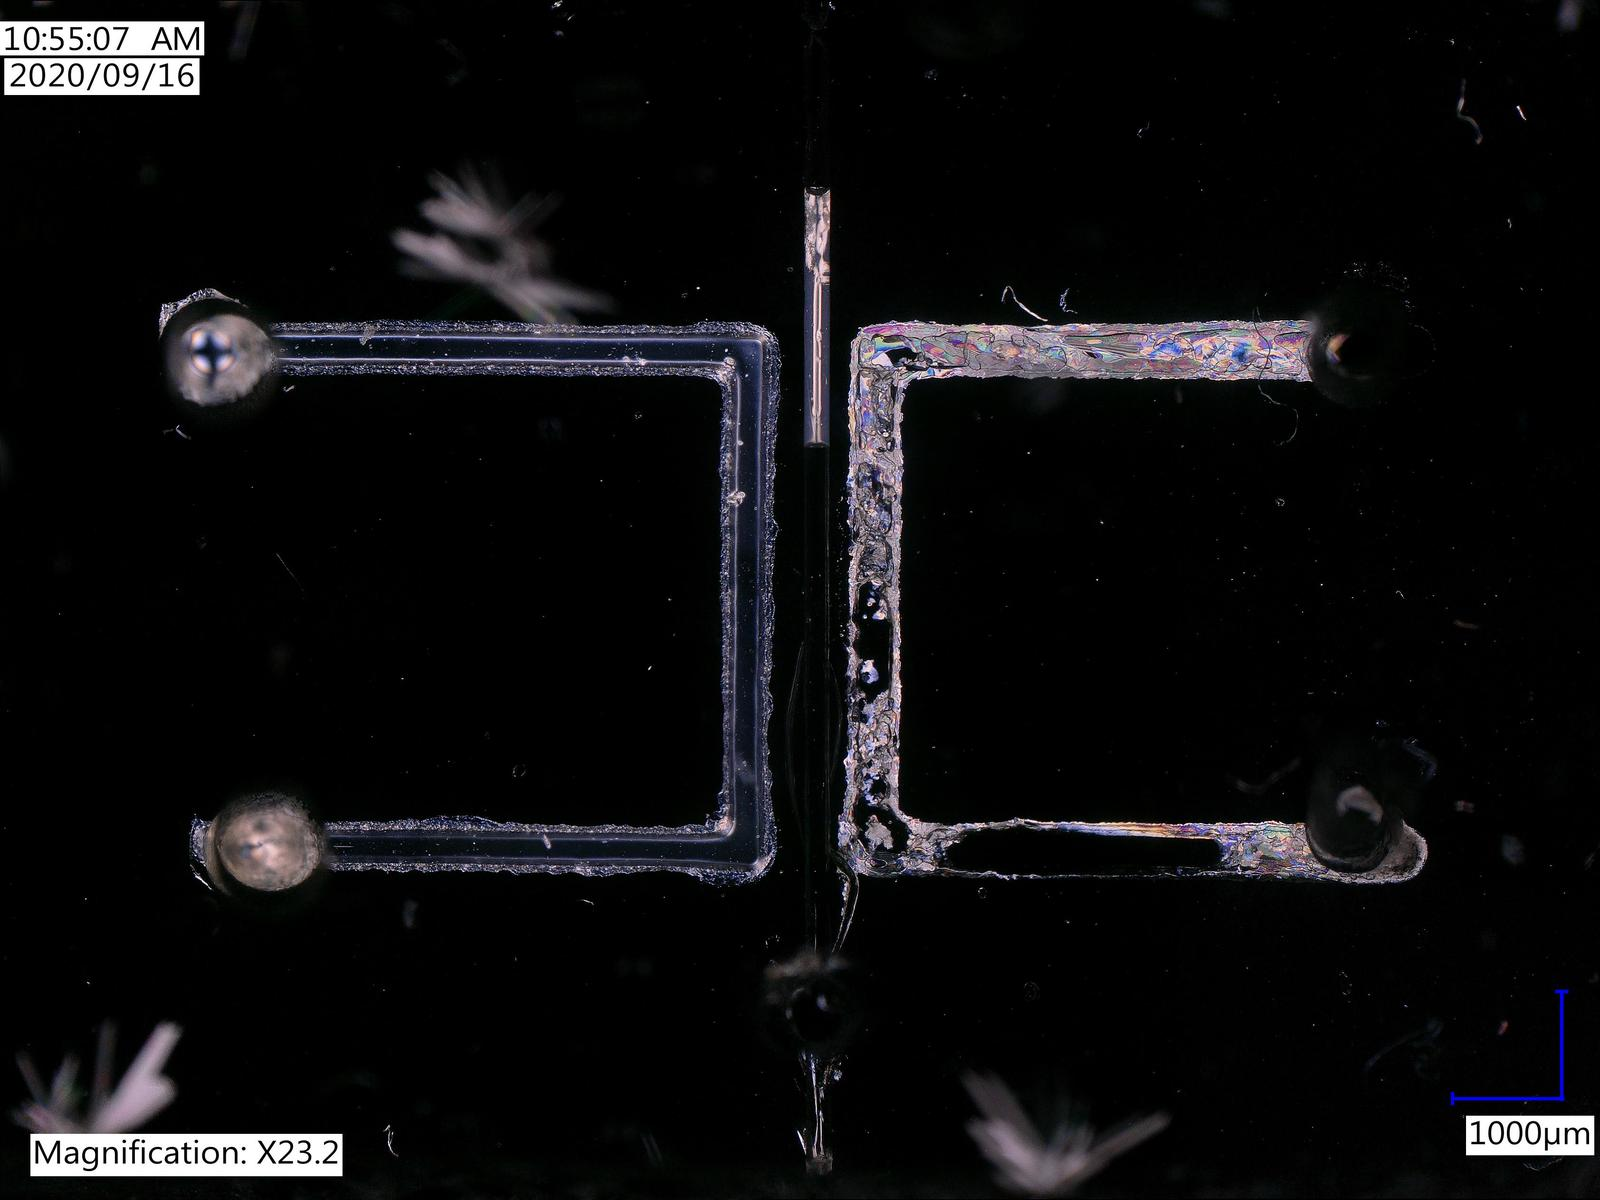sediment: (847, 498, 896, 590), (855, 693, 893, 798), (855, 366, 901, 422), (906, 823, 957, 858), (862, 816, 889, 850)
